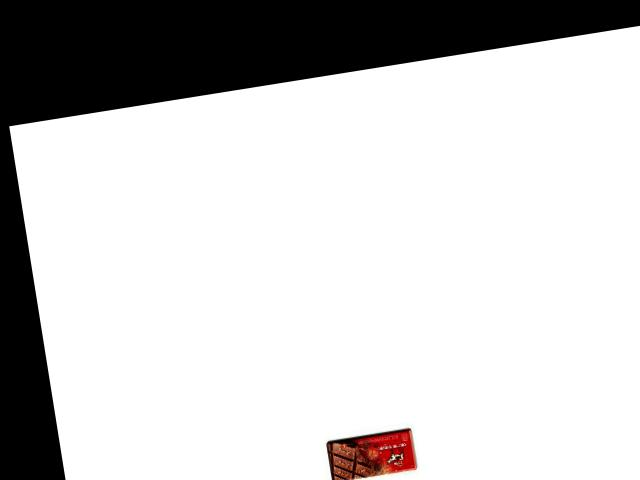chocolate: (323, 426, 418, 480)
